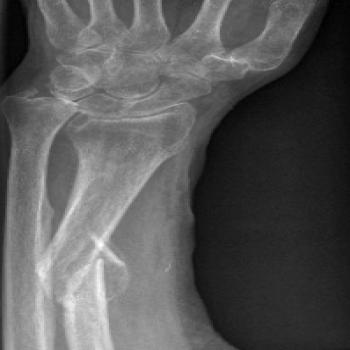Fracture: (40, 234, 142, 288)
